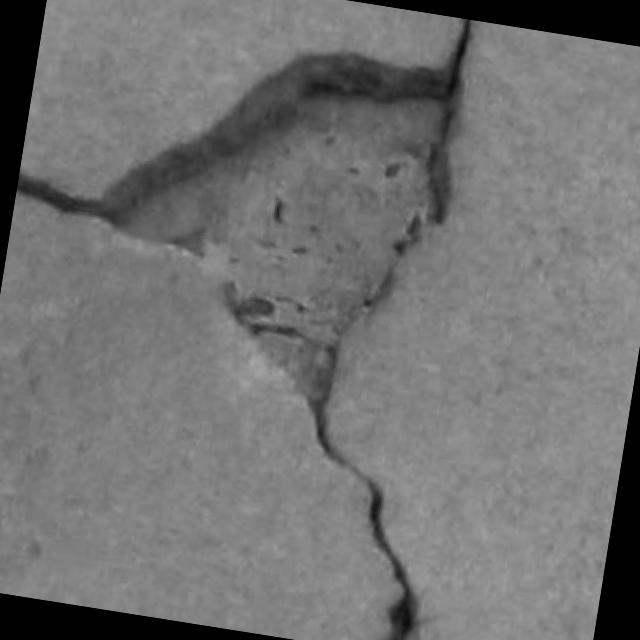crack: (17, 19, 473, 255), (309, 348, 418, 639)
